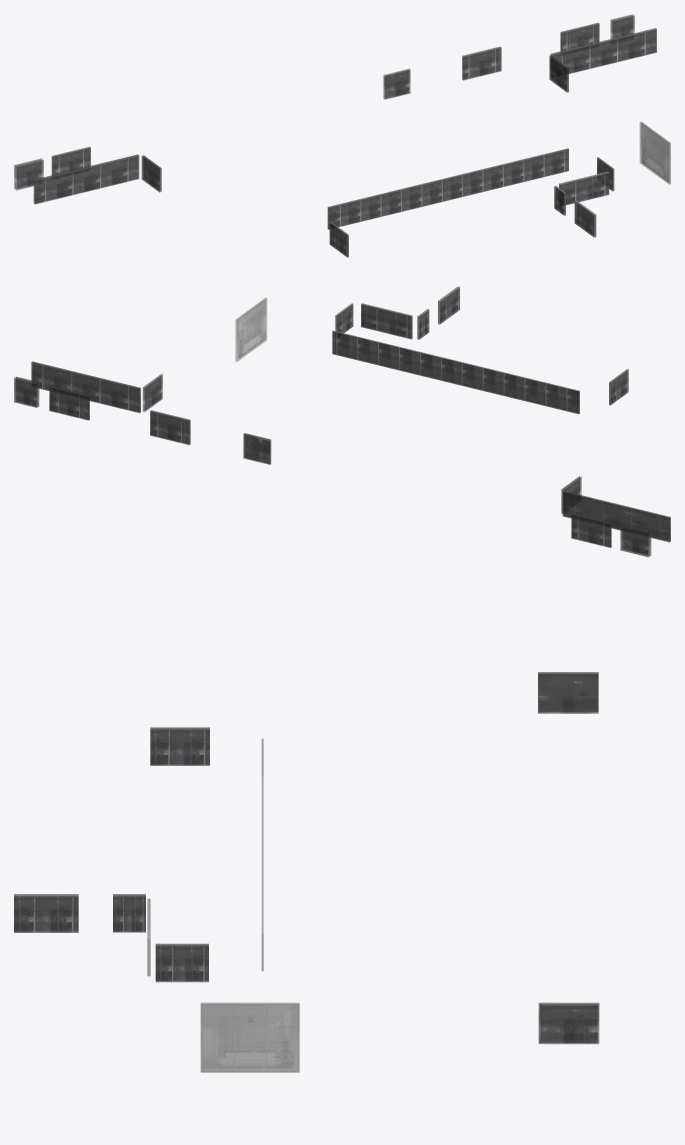
File: corridorglass.dae
3 views of the same model, one above another, from view 1: azimuth 30°, elevation 25°; view 2: azimuth 150°, elevation 25°; view 3: azimuth 270°, elevation 25° (orthographic). The views are drawn at different scales.
Visible parts, largest first — view 1: CorridorGlass; view 2: CorridorGlass; view 3: CorridorGlass.
Boxes of the visible parts, bbox=[...] form: CorridorGlass: bbox=[14, 14, 670, 257]; CorridorGlass: bbox=[14, 286, 670, 557]; CorridorGlass: bbox=[14, 672, 599, 1072].
Size of the model in its own units: 43.49 by 23.94 by 2.87.
